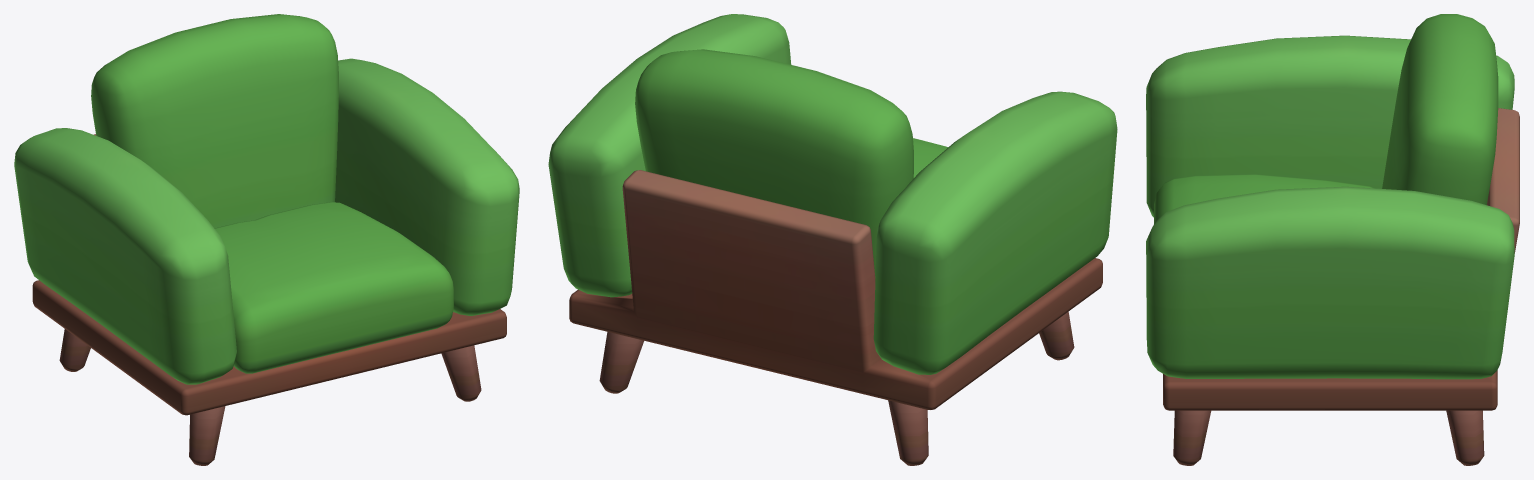
Rendered from Armchair_03.glb.
3 views of the same model, side by side, from view 1: azimuth 30°, elevation 25°; view 2: azimuth 150°, elevation 25°; view 3: azimuth 270°, elevation 25° (orthographic). The views are drawn at different scales.
Parts seen in each view (by area): view 1: Armchair_03; view 2: Armchair_03; view 3: Armchair_03.
Boxes of the visible parts, box(x1,y1,x2,y2) form: Armchair_03: box(14, 14, 519, 465); Armchair_03: box(548, 14, 1117, 465); Armchair_03: box(1146, 14, 1519, 465).
Size of the model in its own units: 0.9985 by 0.8286 by 0.8191.
Materials: 1 (1 with a texture image).
